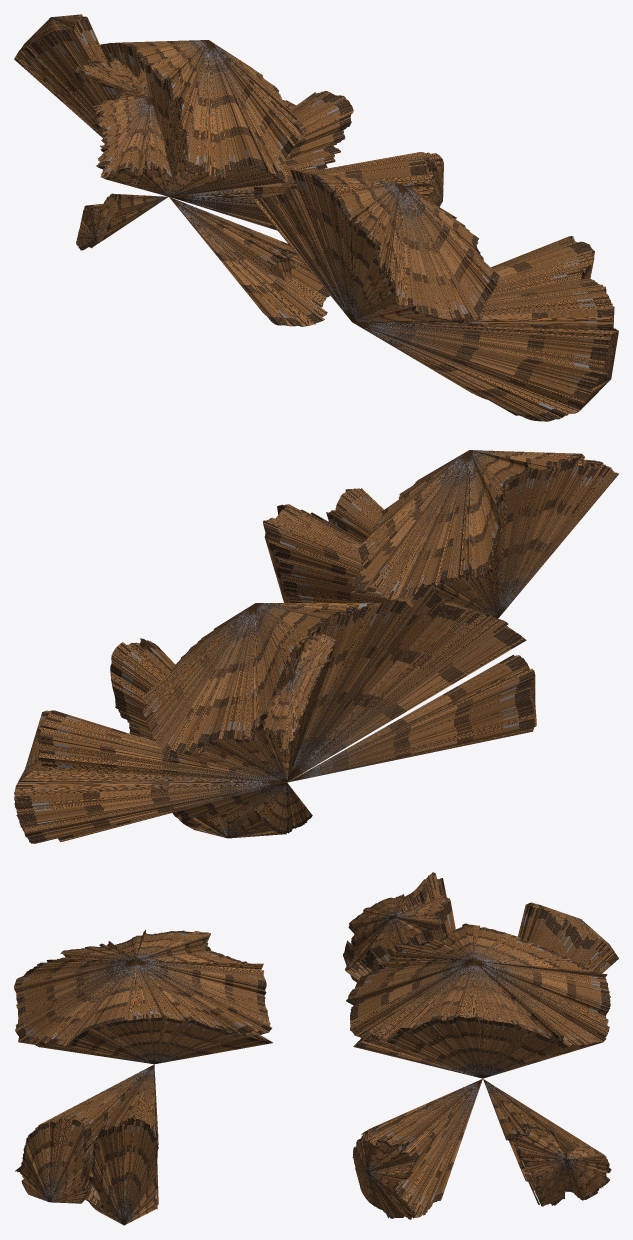
The model's file is hand_wrap.obj.
3 renders of one model, top to bottom at view 1: azimuth 30°, elevation 25°; view 2: azimuth 150°, elevation 25°; view 3: azimuth 270°, elevation 25°, orthographic. The views are drawn at different scales.
Bounding box in the file's own units: 3.75 × 2.75 × 6.
